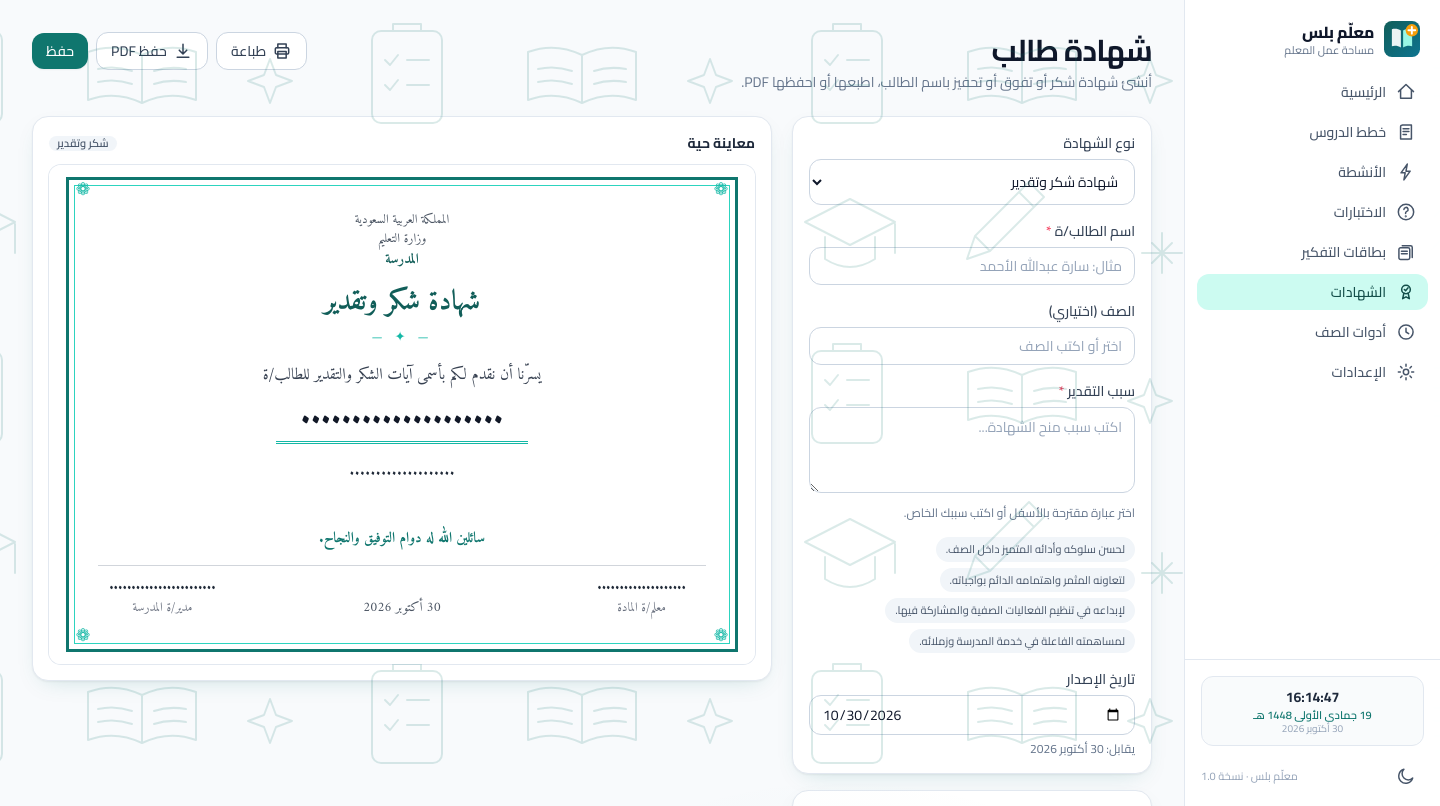
حقل تاريخ الإصدار في محرر الشهادة › باتجاه ltr مع تلميح عربي حي
The width and height of the screenshot is (1440, 806).
Type "2026-12-14" into the date field with id "cert-date" at (972, 715), box [809,695,1135,735]
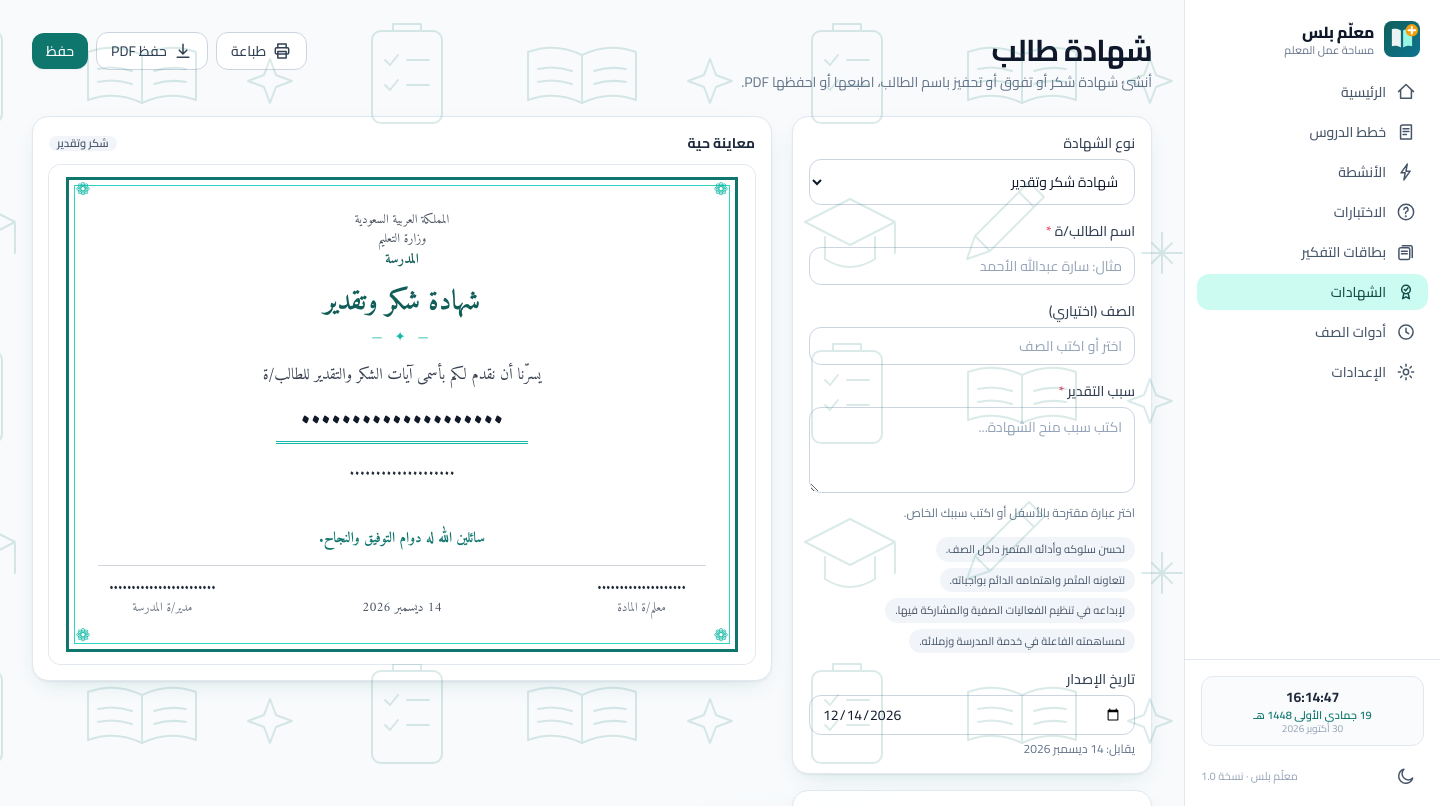
Expected: the text "يقابل: 14 ديسمبر 2026" is shown, [1024,737,1135,760]
